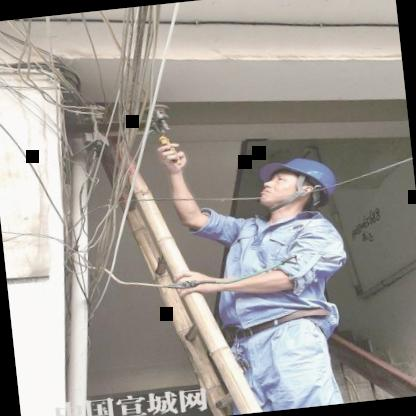helmet: (244, 150, 346, 219)
